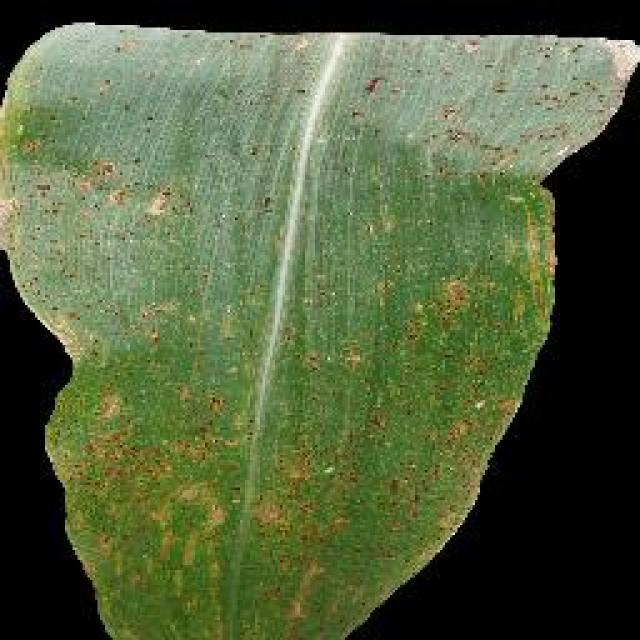Corn Common Rust: (0, 36, 525, 442)
